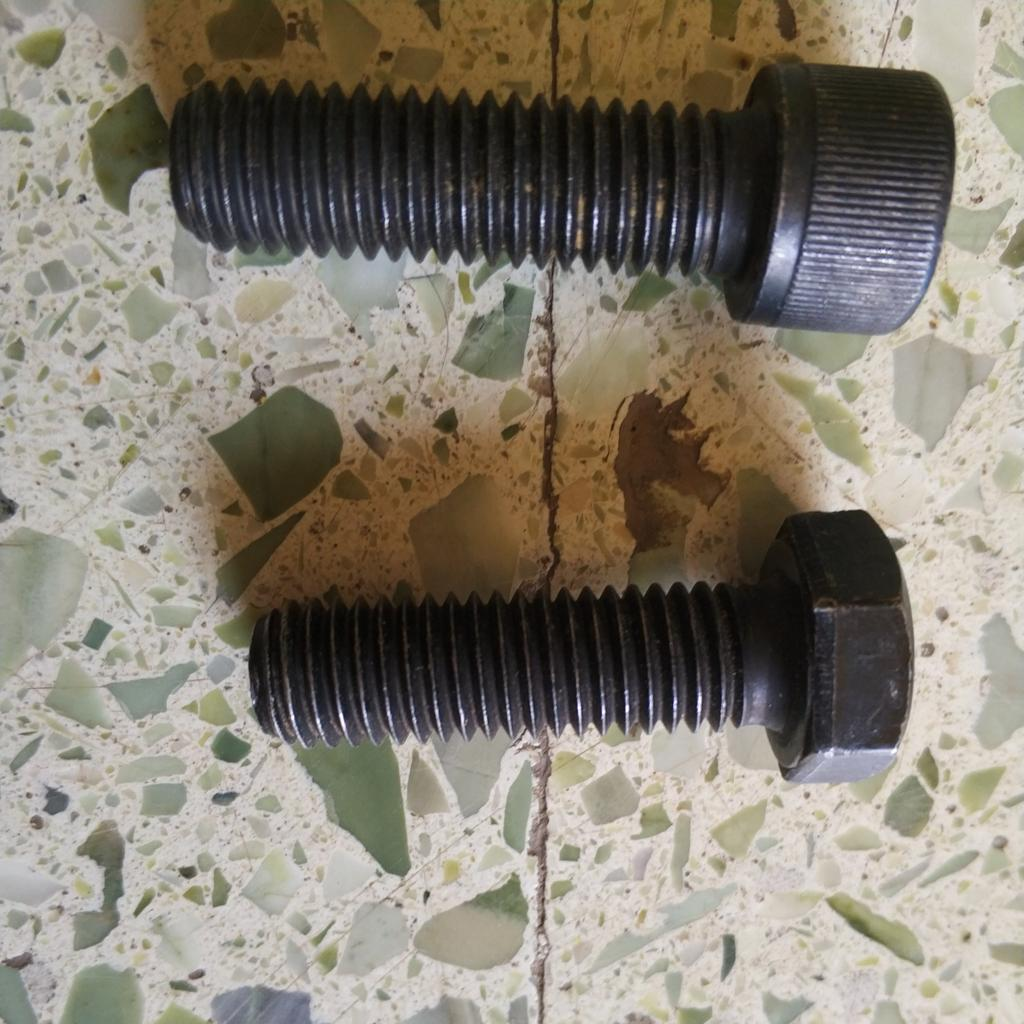screwtype1black: (150, 50, 967, 346)
screwtype2black: (240, 503, 918, 795)
